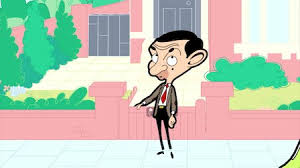mrbean: (134, 30, 208, 159)
